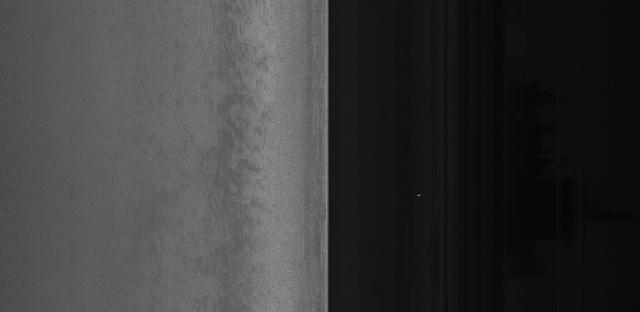silk_spot: (208, 113, 285, 205)
